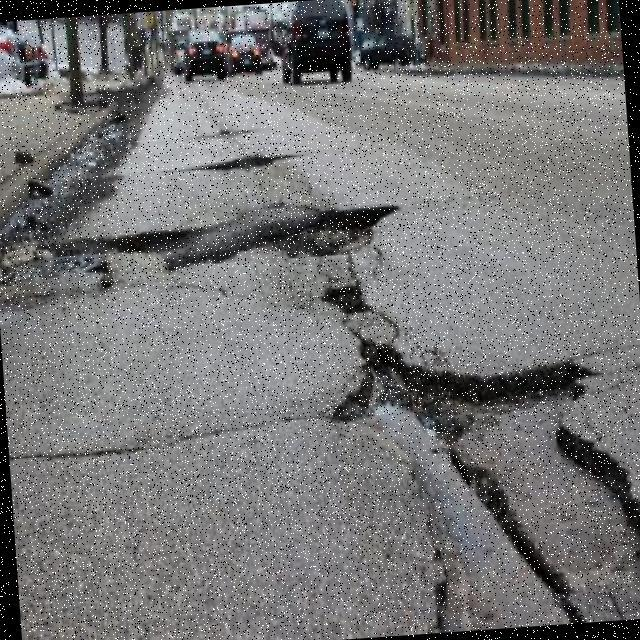Pothole: (328, 341, 640, 633), (31, 204, 403, 271), (203, 151, 295, 171), (322, 286, 368, 315)
